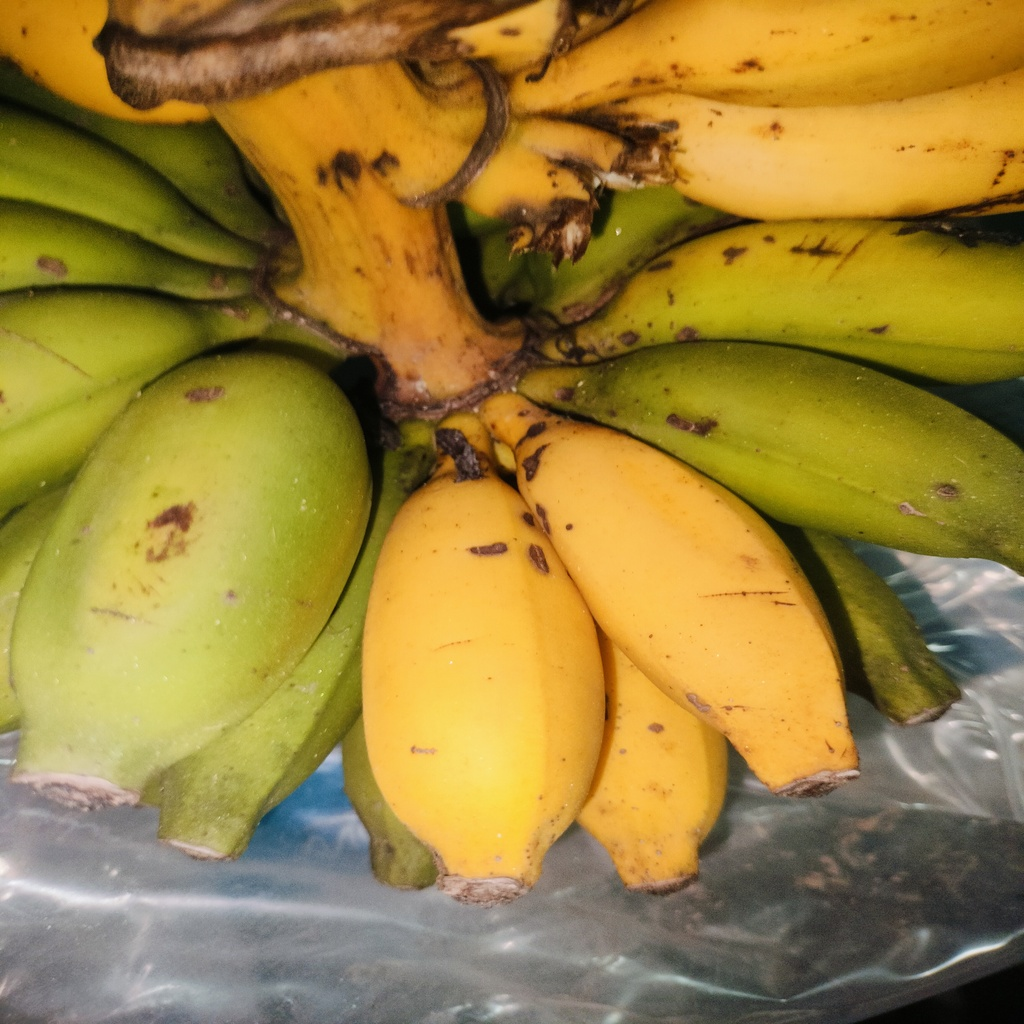unhealthy: (9, 352, 368, 809), (501, 430, 862, 813), (362, 445, 607, 913)
